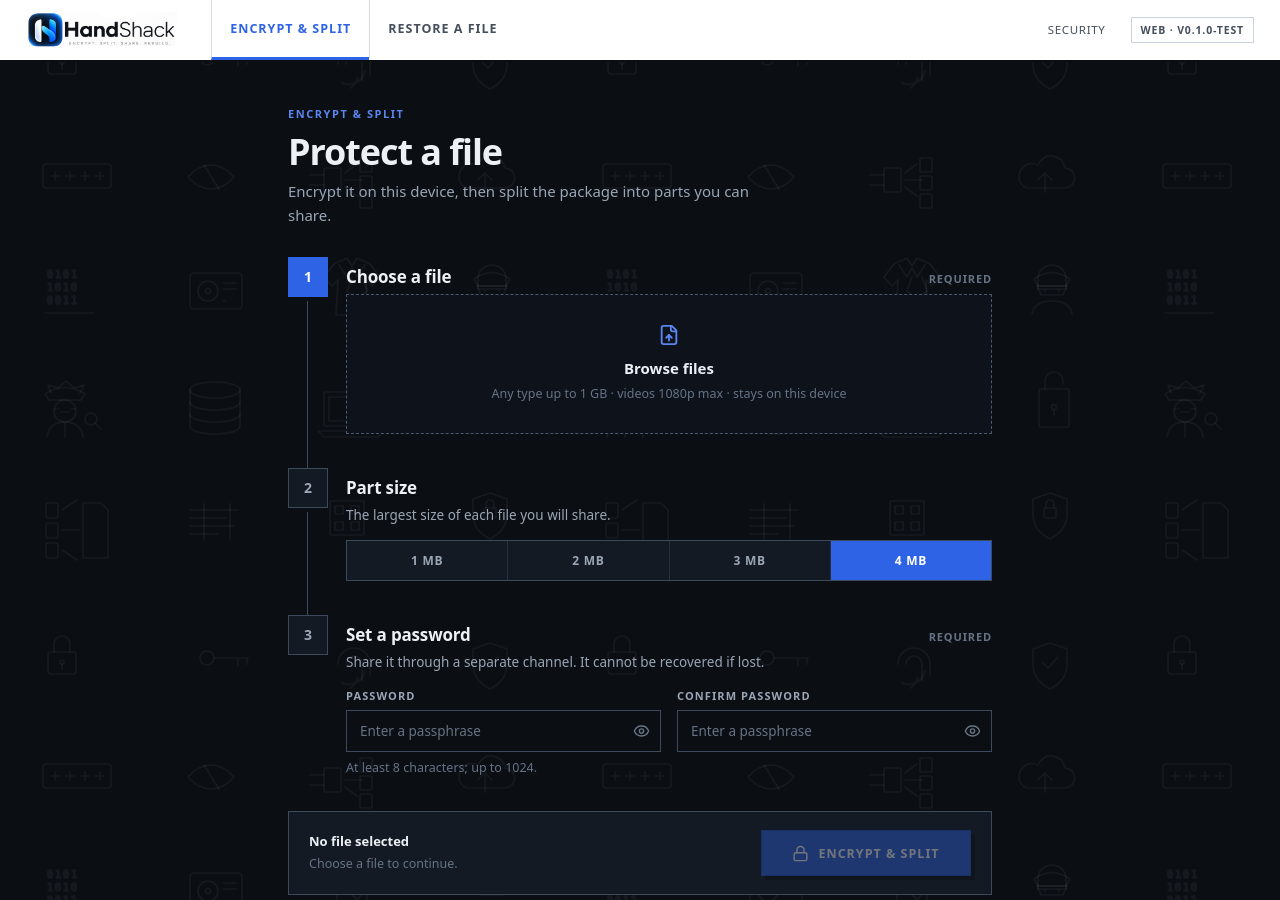
it: Encrypt & Split page › shows file details and an estimate after selection
Click the button "Browse files" at {"x": 669, "y": 364}, box [346,294,992,434]
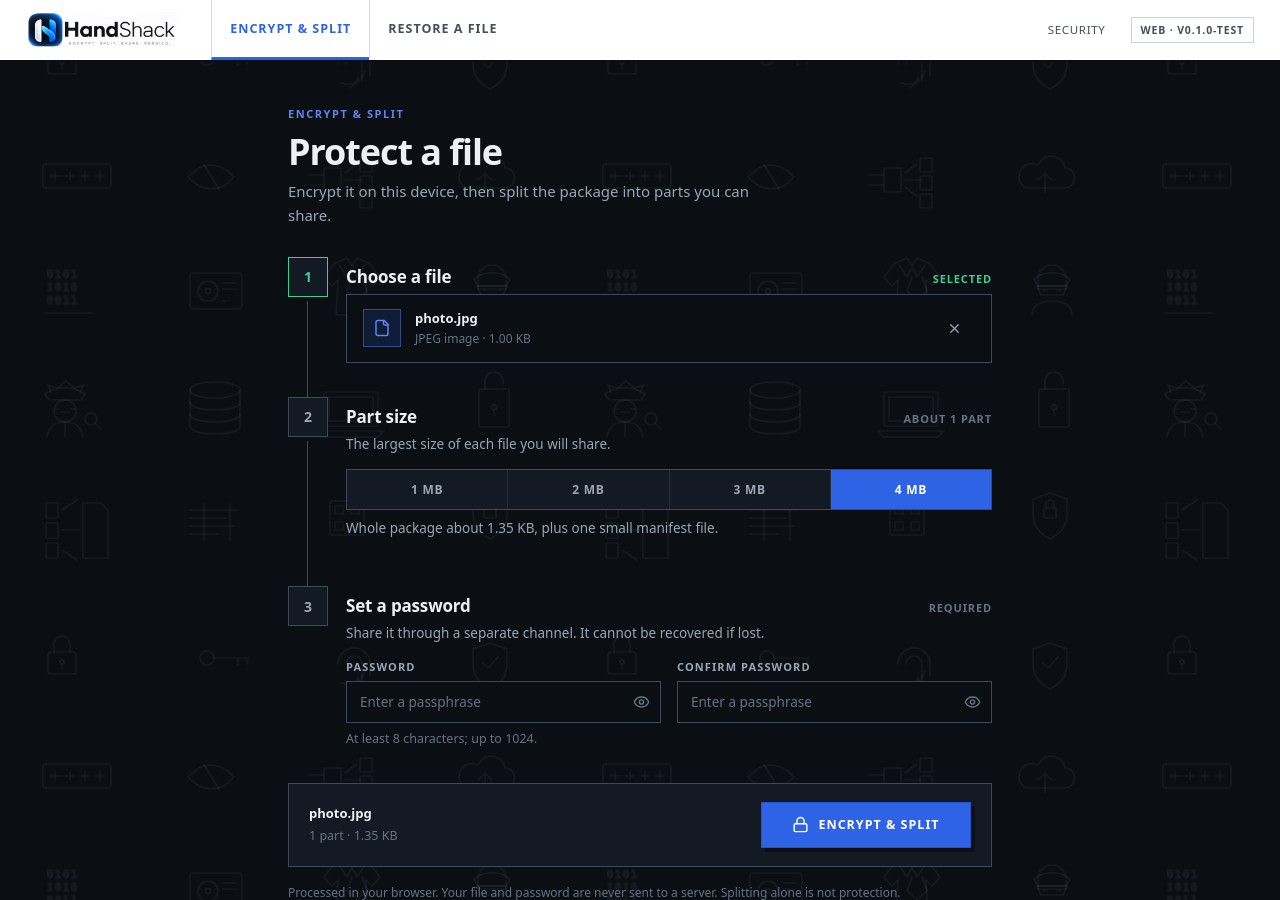
Expected: the text "photo.jpg" below "Choose a file" is shown, [415,309,478,327]
Expected: the text "About 1 part" is shown, [903,411,992,426]
